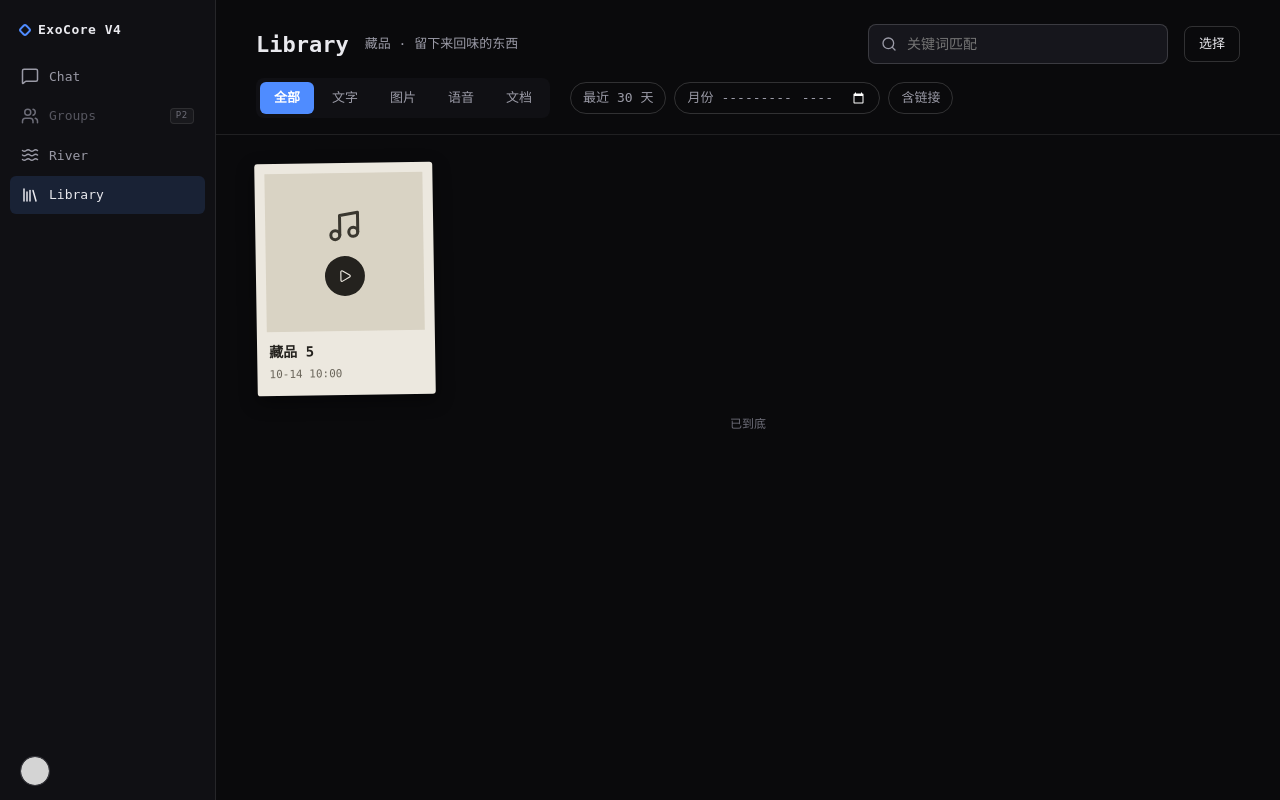
Test: #74 Library (D3) › lists and opens an artifact item labelled as a chat attachment with a source link
Step 1. Click the link "藏品 5" → coordinates (292, 351), box [269,343,314,360]
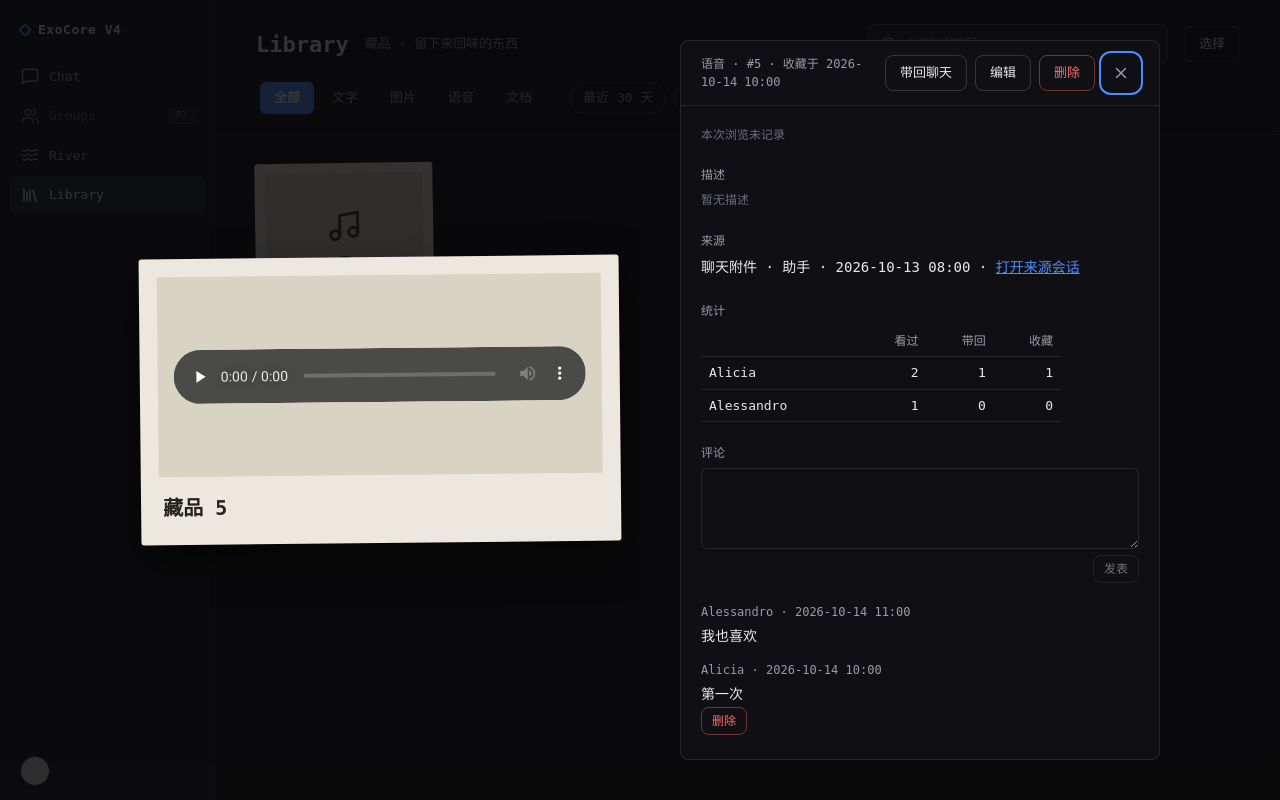
Check: the text "聊天附件 · 助手 · 2026-10-13 08:00 · 打开来源会话" is shown, box [701,256,1139,280]
